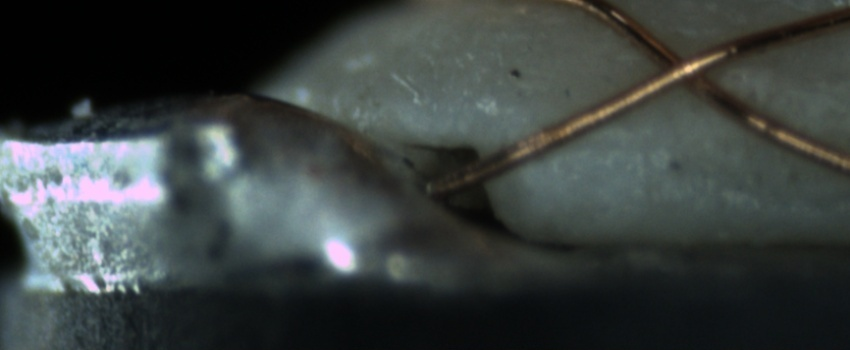CL: (632, 35, 730, 104)
DL: (541, 117, 674, 169)
